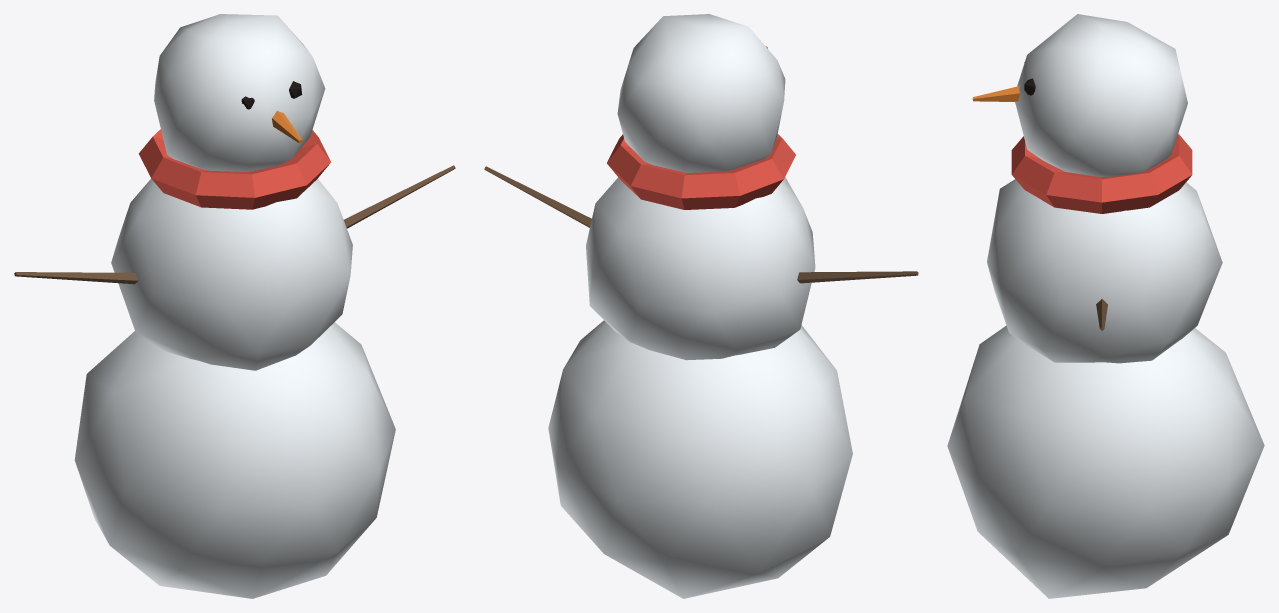
File: hd_snowman.gltf
3 views of the same model, side by side, from view 1: azimuth 30°, elevation 25°; view 2: azimuth 150°, elevation 25°; view 3: azimuth 270°, elevation 25° (orthographic).
Parts seen in each view (by area): view 1: ball0, ball1, ball2, scarf, arm-1, arm1; view 2: ball0, ball1, ball2, scarf, arm-1, arm1; view 3: ball0, ball1, ball2, scarf, nose.
Boxes of the visible parts, bbox=[...] form: ball0: bbox=[74, 322, 395, 598]; ball1: bbox=[111, 178, 352, 370]; ball2: bbox=[154, 14, 325, 171]; scarf: bbox=[138, 129, 330, 209]; arm-1: bbox=[14, 272, 138, 284]; arm1: bbox=[344, 165, 455, 228]; ball0: bbox=[548, 320, 852, 598]; ball1: bbox=[586, 177, 815, 360]; ball2: bbox=[617, 14, 785, 172]; scarf: bbox=[607, 134, 795, 209]; arm-1: bbox=[797, 271, 918, 283]; arm1: bbox=[484, 166, 591, 227]; ball0: bbox=[947, 325, 1264, 598]; ball1: bbox=[987, 179, 1222, 363]; ball2: bbox=[1015, 14, 1187, 176]; scarf: bbox=[1011, 134, 1192, 213]; nose: bbox=[972, 86, 1019, 101].
Bounding box in the file's own units: 1.73 × 2.12 × 1.1.
